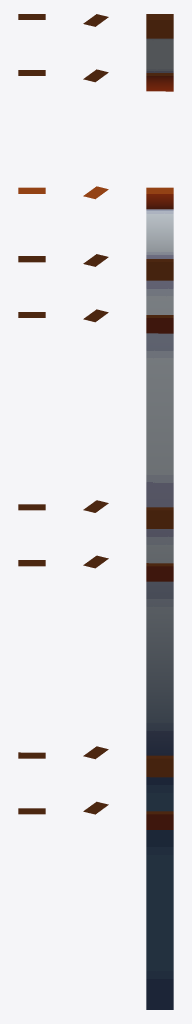
3 views of the same model, side by side, from view 1: azimuth 90°, elevation 25°; view 2: azimuth 150°, elevation 25°; view 3: azimuth 270°, elevation 25° (orthographic).
Bounding box in the file's own units: 0.5317 × 40 × 1.
Materials: 2 (2 with a texture image).
